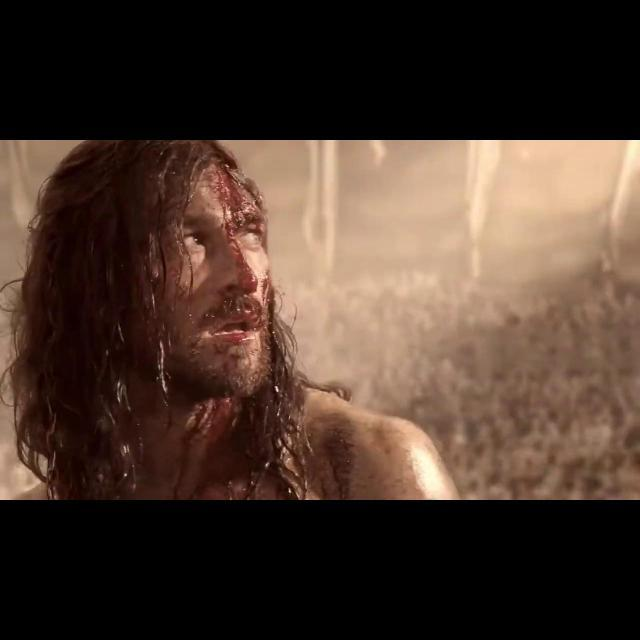blood: (208, 166, 270, 337)
